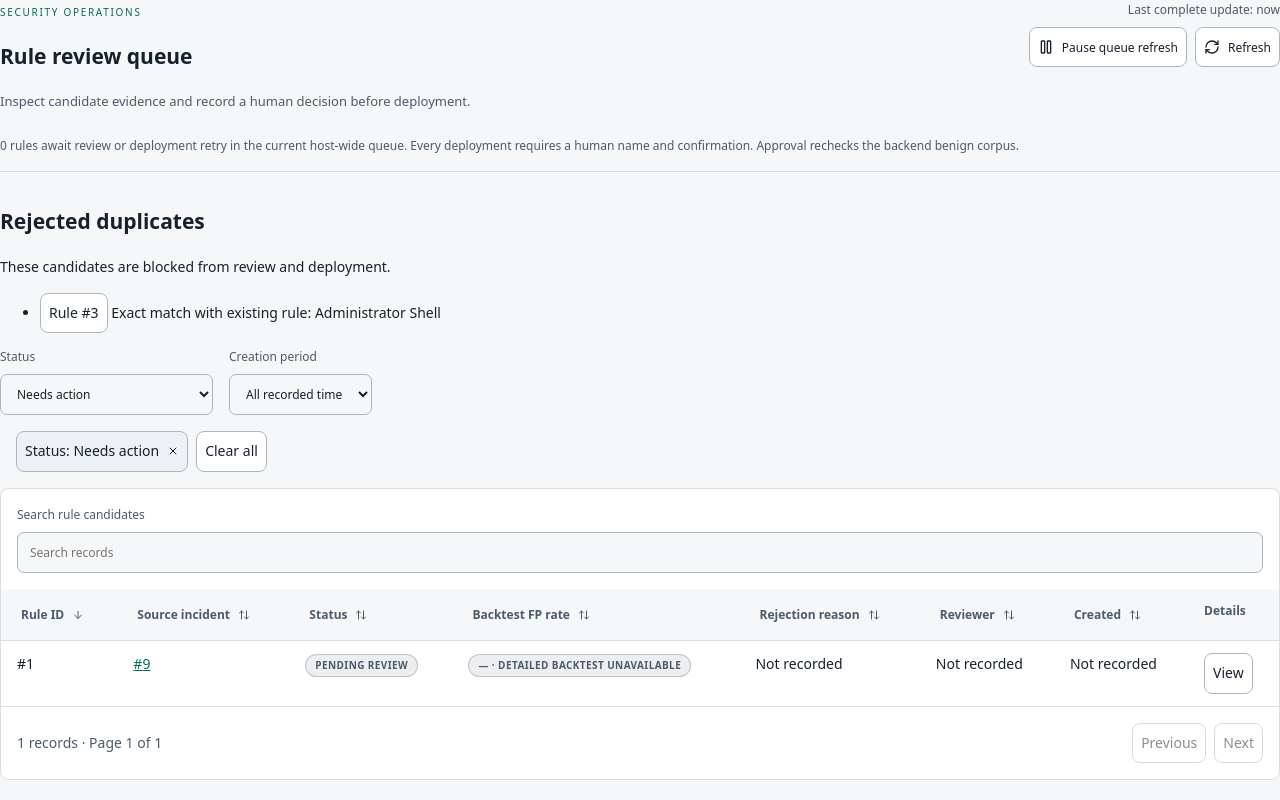
Scenario: separates duplicate rejections with reasons from the actionable queue
Expected: the element named "Rejected duplicates" shows "Administrator Shell", [111,303,441,322]
Expected: the element named "Rejected duplicates" shows "blocked from review and deployment", [0,257,391,276]
Click the button "Rule #3" at (74,313), box [40,293,108,333]
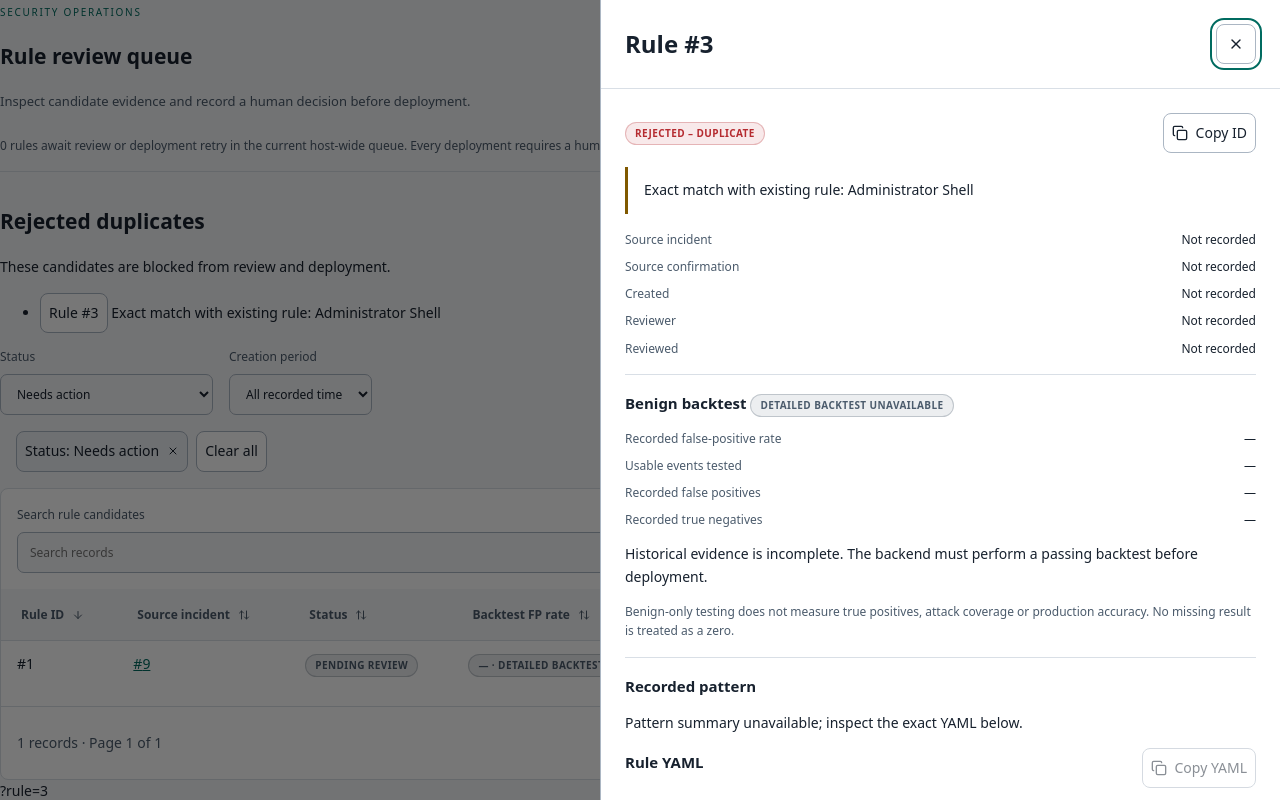
Now the text named "URL" reads "?rule=3", box [0,781,48,799]
